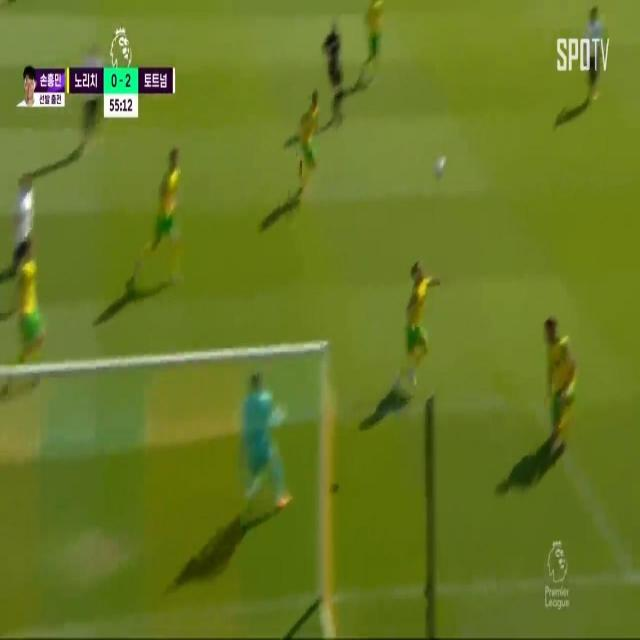player: (9, 235, 45, 380), (541, 318, 581, 442), (401, 262, 435, 381), (156, 142, 186, 273), (296, 85, 323, 198), (11, 167, 41, 258), (581, 1, 605, 106), (364, 0, 384, 74)
referee: (323, 15, 350, 126), (434, 144, 449, 186)
